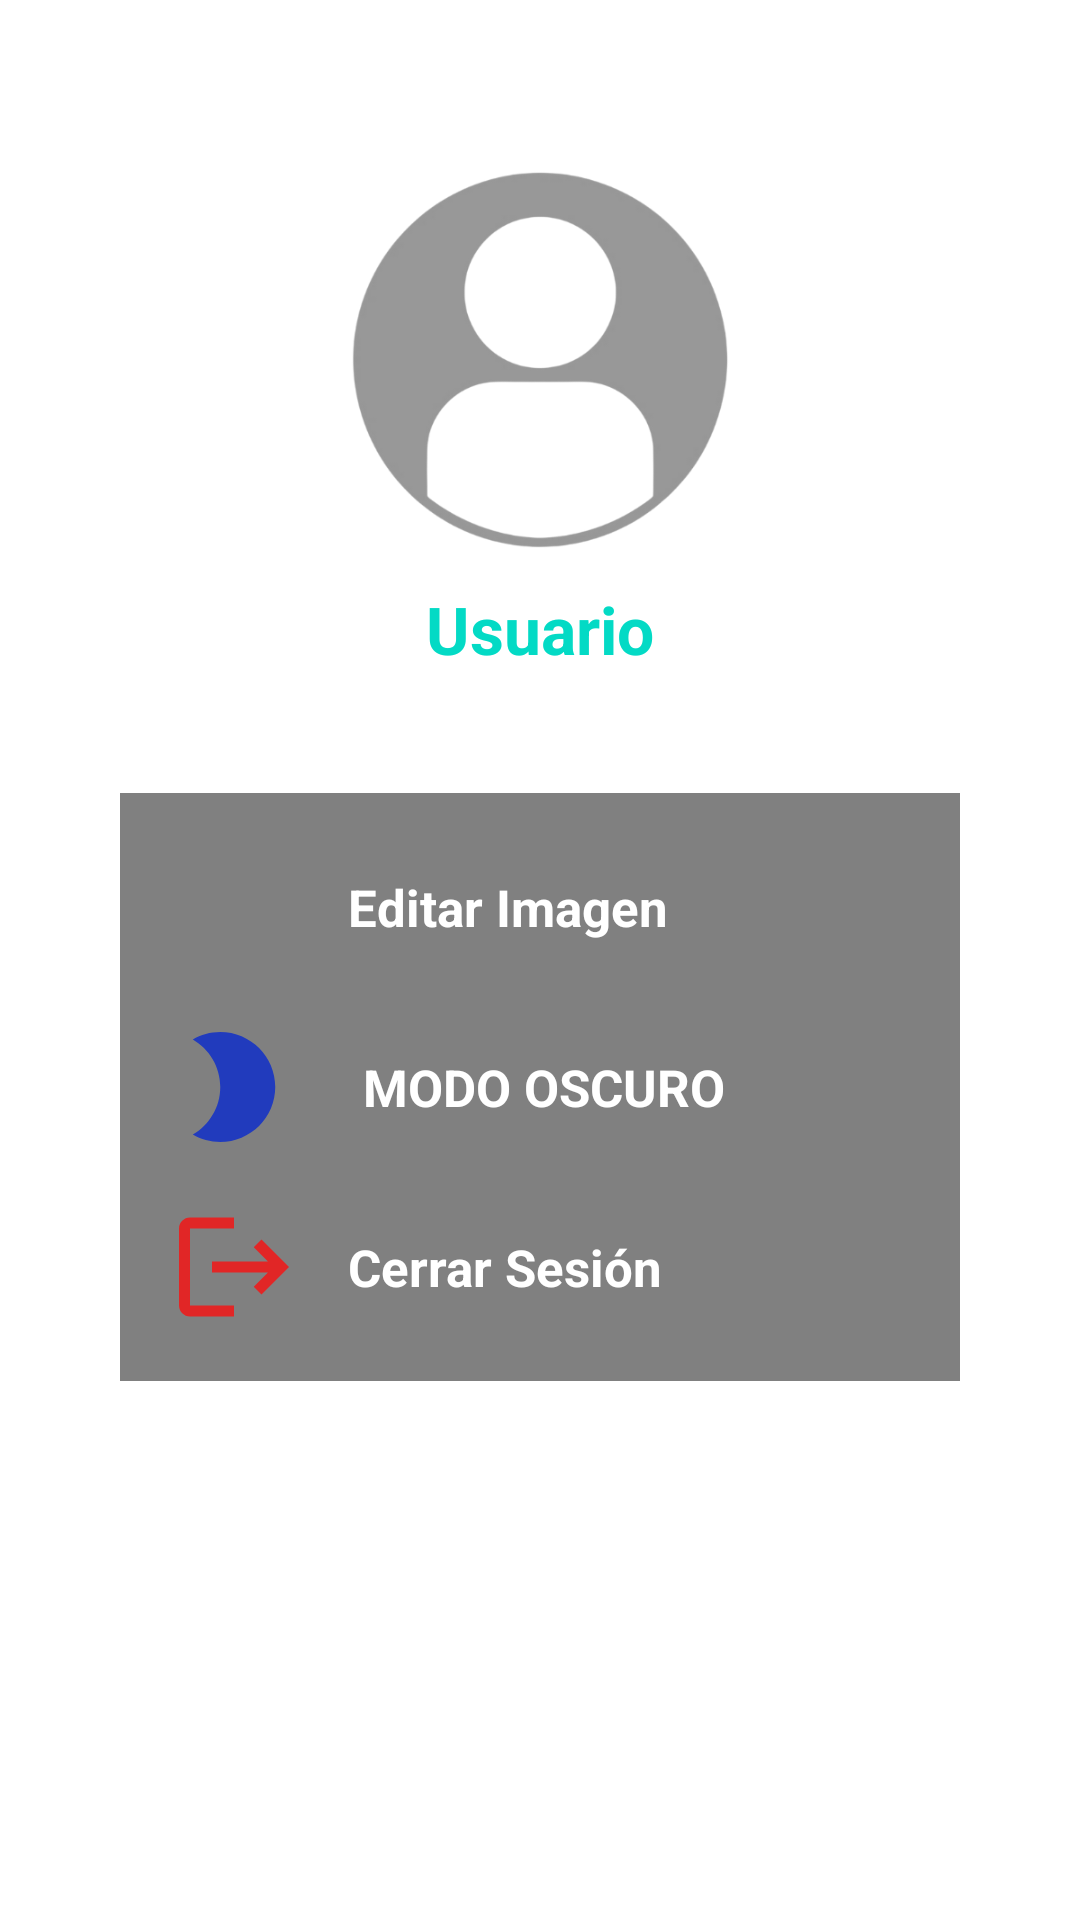

Screen size 1080 × 1920. Icon name, then its box in pixels as (x1, y1, x2, y2):
mode night: (193, 1032, 275, 1142)
